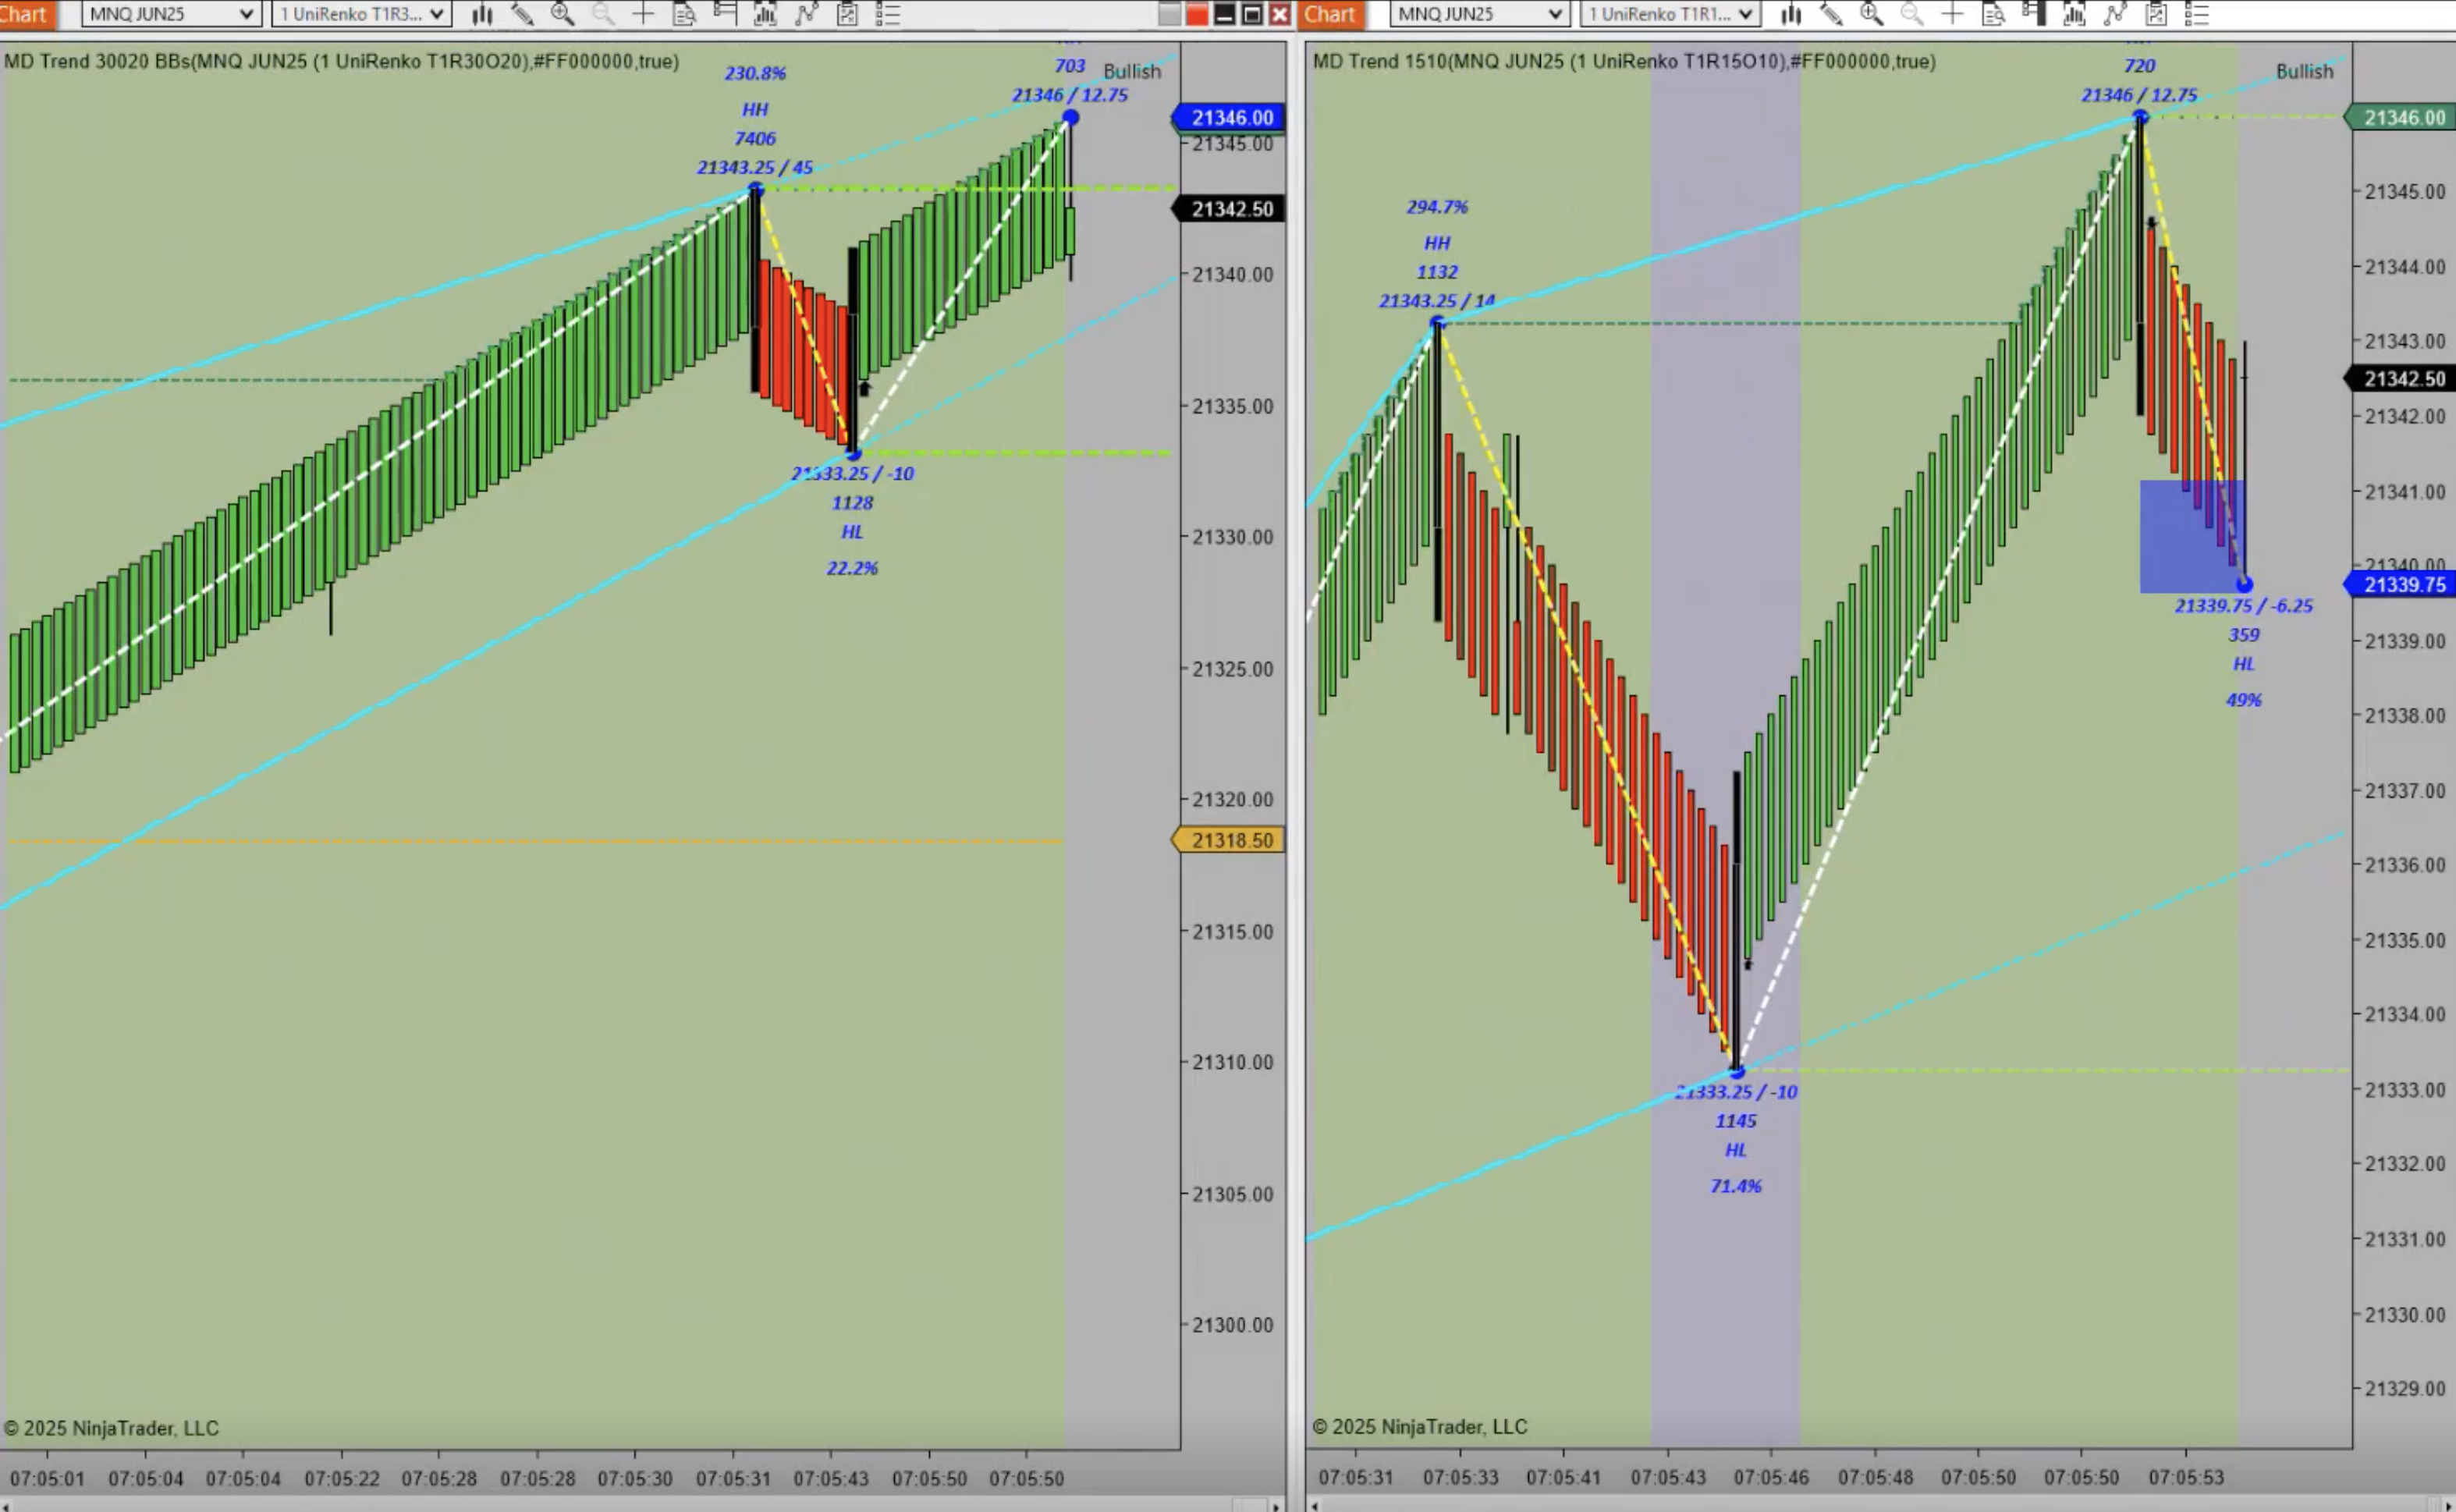candle: (2131, 105, 2160, 419), (1428, 312, 1453, 631), (1728, 765, 1746, 1073), (746, 181, 768, 402), (842, 237, 863, 454)
